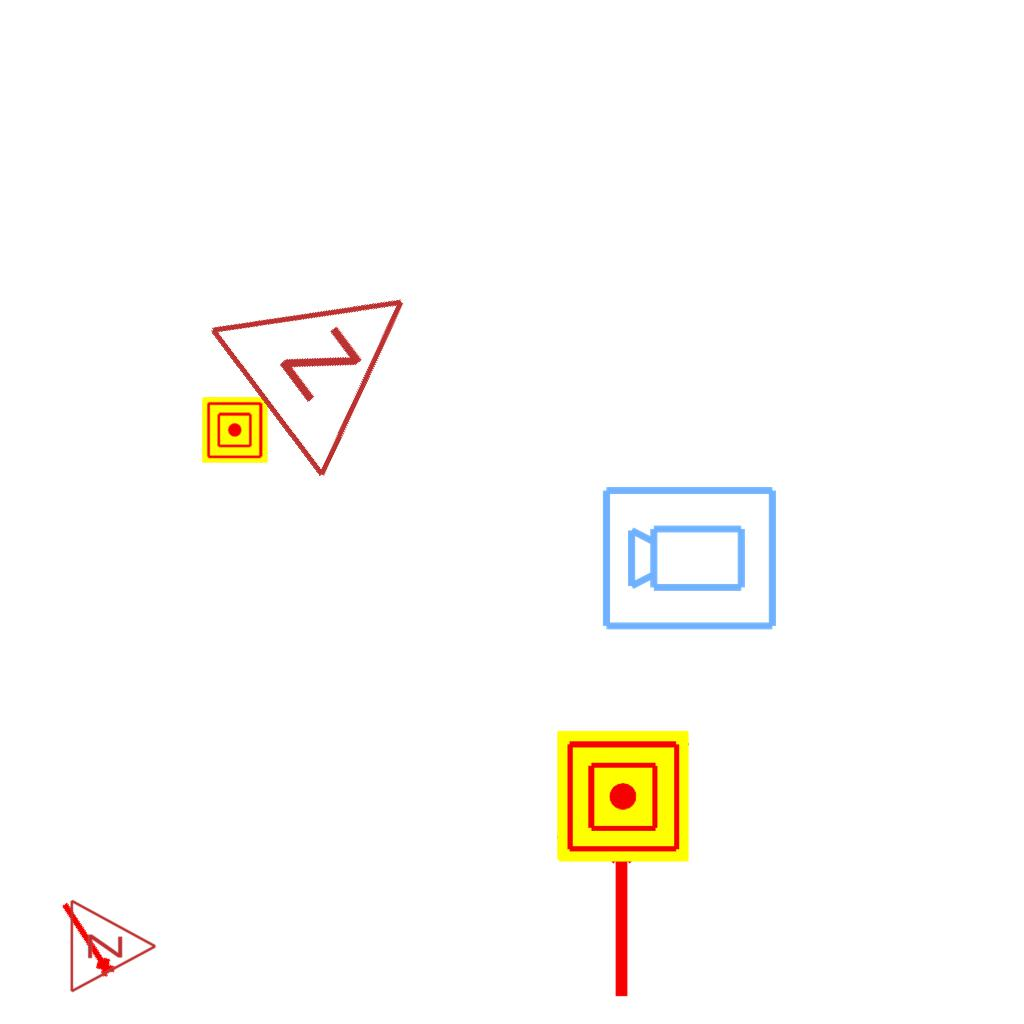ASR_Ansaugoeffnung: (601, 826, 647, 1002), (52, 896, 120, 983)
KFO_Kamera_mit_Festobjektiv: (599, 480, 781, 634)
NAM-Nichtautomatischer_Melder: (557, 730, 689, 862), (202, 397, 268, 463)
Zimmersignalleuchte: (193, 212, 471, 490), (63, 896, 163, 994)
